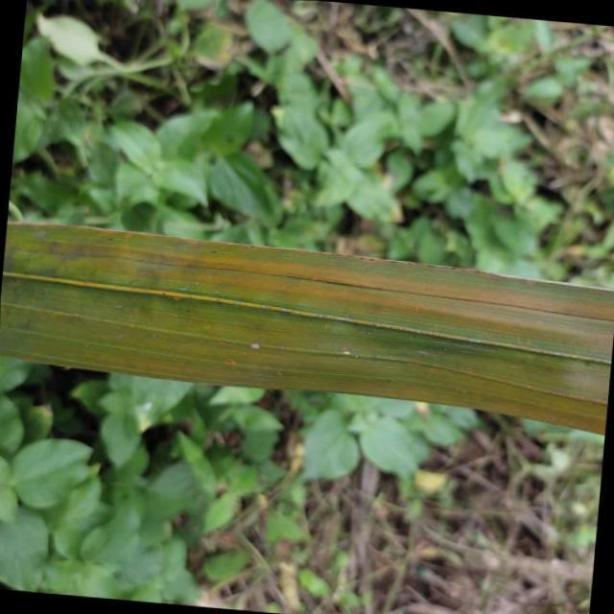Megnesium: (5, 222, 614, 437)
